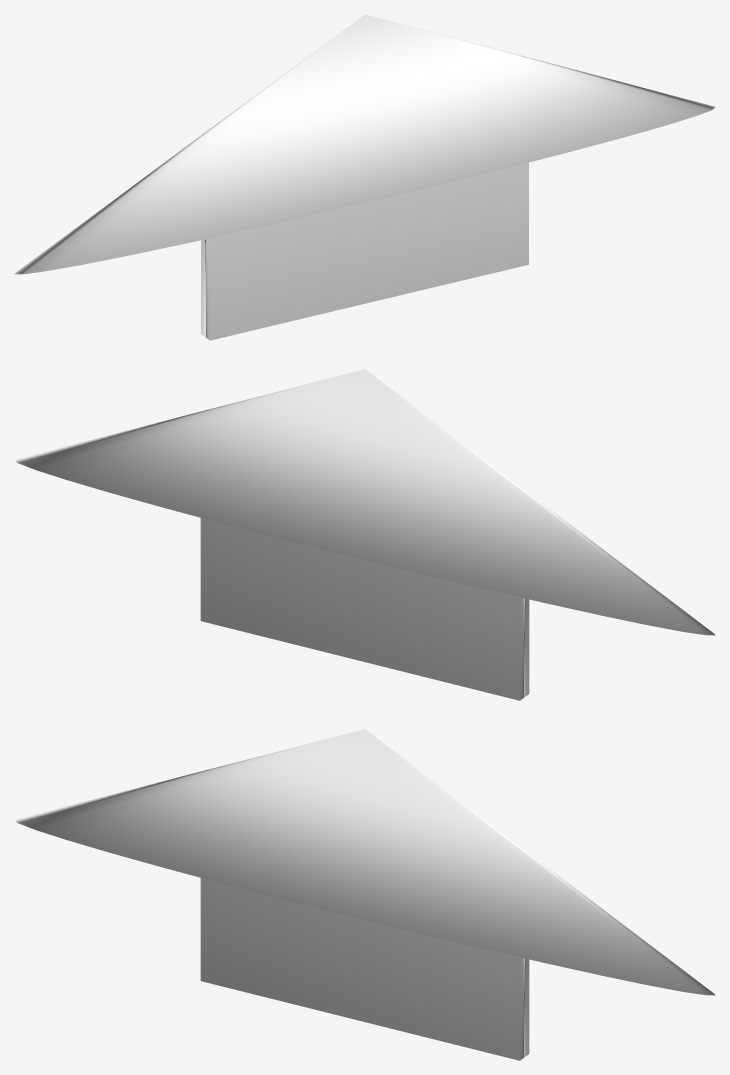
File: whiteArrow.obj
The picture shows the model from 3 angles, top to bottom: view 1: azimuth 30°, elevation 25°; view 2: azimuth 150°, elevation 25°; view 3: azimuth 330°, elevation 25°; orthographic projection.
Parts seen in each view (by area): view 1: 立方体; view 2: 立方体; view 3: 立方体.
Boxes of the visible parts, bbox=[...] form: 立方体: bbox=[14, 14, 715, 340]; 立方体: bbox=[14, 369, 715, 700]; 立方体: bbox=[14, 729, 715, 1060].
Size of the model in its own units: 13.78 by 5.38 by 0.8816.
Materials: 1 (1 with a texture image).
